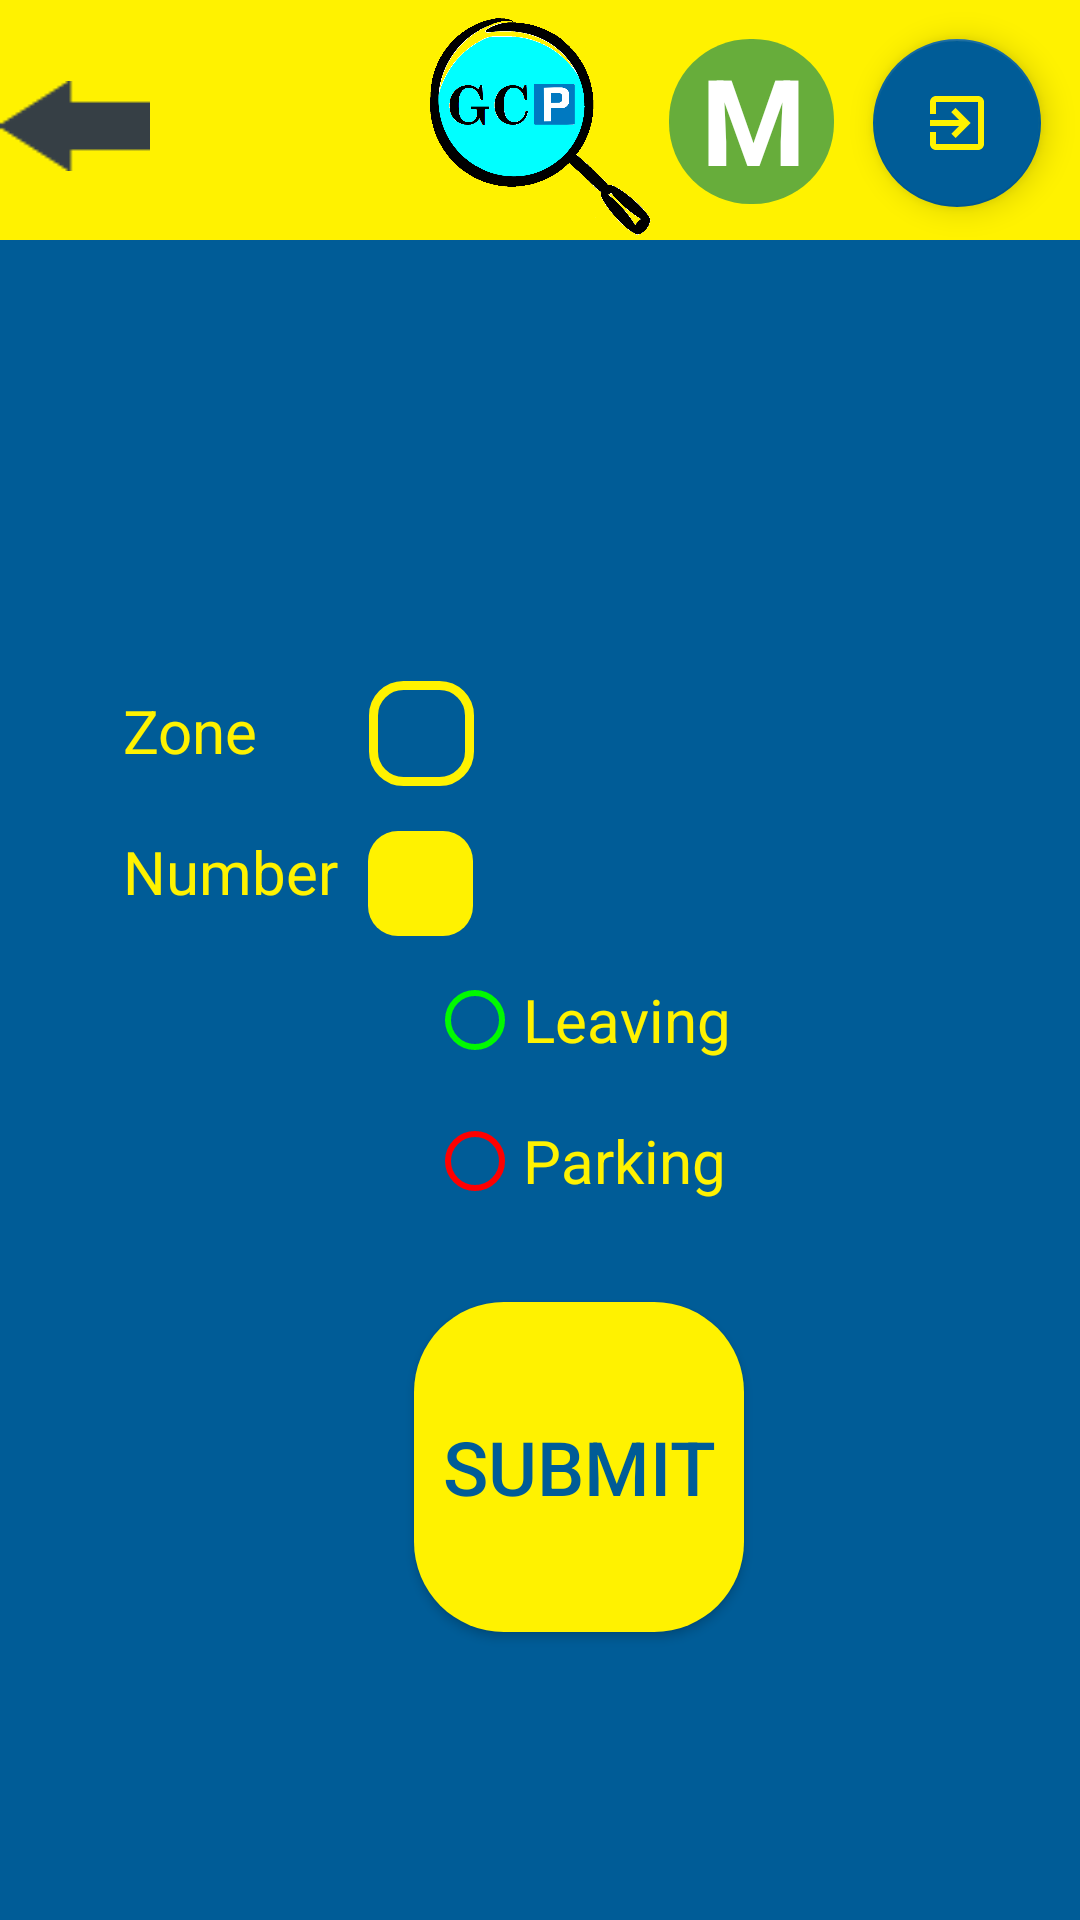

Icon click points for this 1080px×1920px phone screenshot, format (x,y):
back: (75,126)
exit: (957,123)
